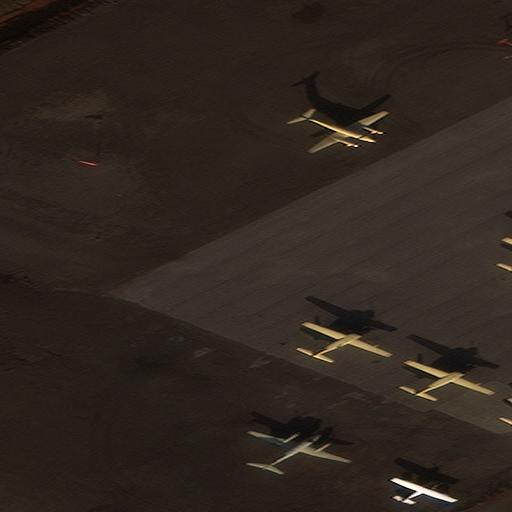Medium Civil Transport: (250, 430, 351, 470), (300, 112, 388, 153), (306, 321, 392, 357), (409, 359, 495, 395)
Small Civil Transport: (394, 476, 458, 502)
